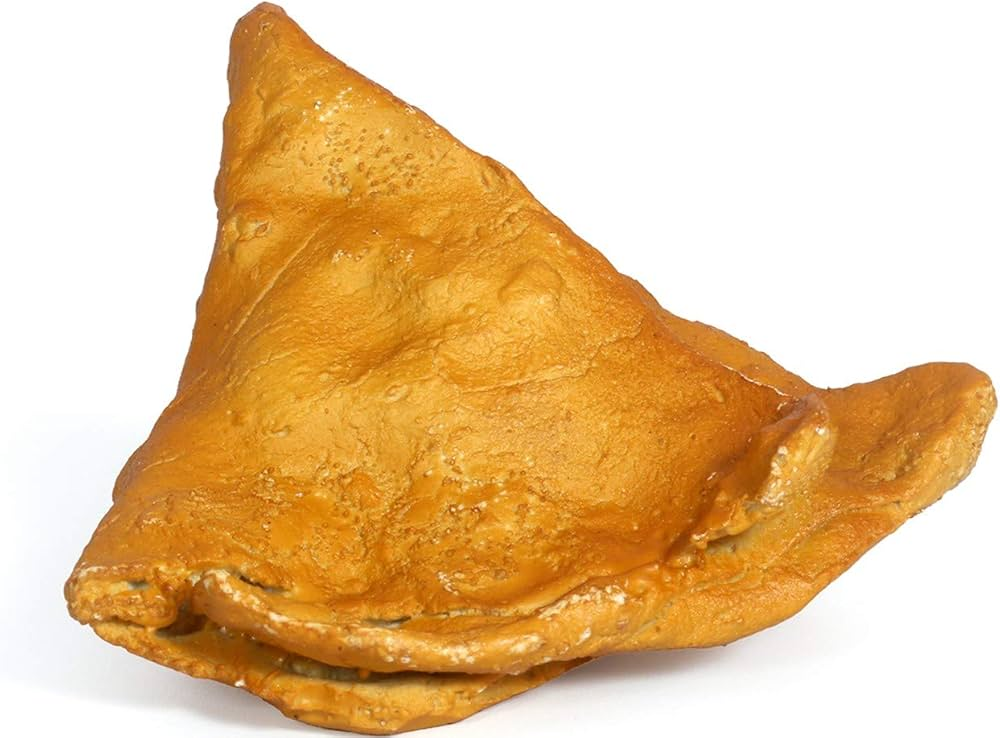samosa: (52, 2, 985, 682)
